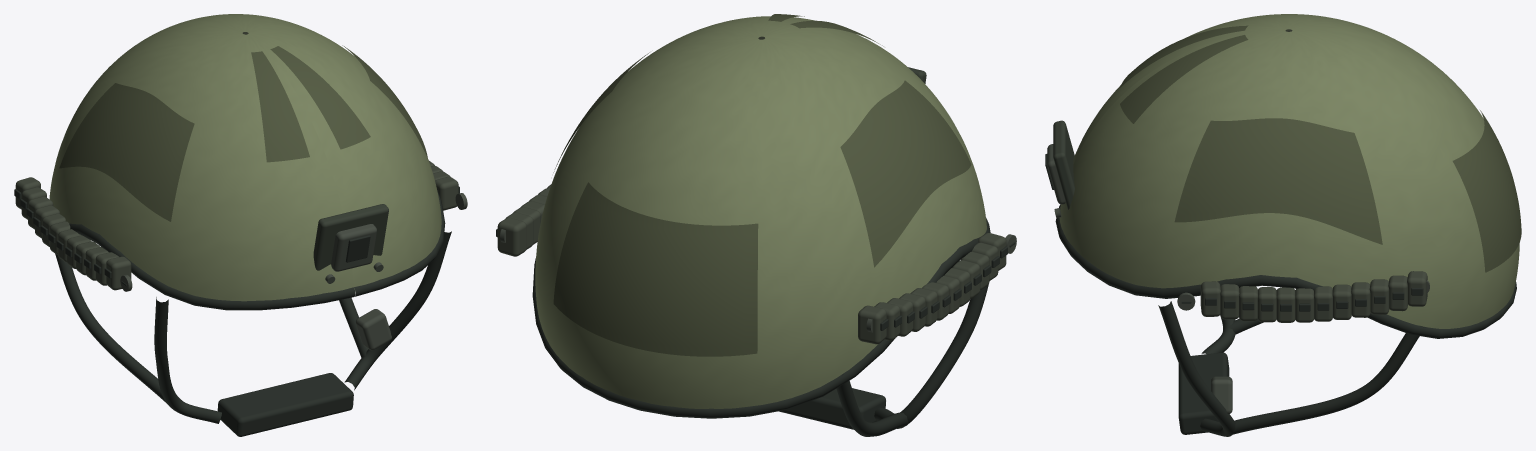
Rendered from atlas-olive.glb.
3 renders of one model, left to right at view 1: azimuth 30°, elevation 25°; view 2: azimuth 150°, elevation 25°; view 3: azimuth 270°, elevation 25°, orthographic. The views are drawn at different scales.
Visible parts, largest first — view 1: Exterior shell, Loop panel (×4), Chin cup, Chin strap (×2), Continuous rim, Rear retention strap (×2), ATLAS original demonstrator, Front mount, Accessory rail (×2), Strap buckle; view 2: Exterior shell, Loop panel (×2), Continuous rim, Accessory rail (×3), Chin strap, Chin cup, Rear retention strap, ATLAS original demonstrator; view 3: Exterior shell, Loop panel (×4), Accessory rail (×12), Continuous rim, Rear retention strap, Chin strap (×2), Chin cup, ATLAS original demonstrator, Front mount, Strap buckle.
Part boxes in pixels (<box>): Exterior shell: <box>49,14,441,301</box>; Loop panel (×4): <box>59,45,427,221</box>; Chin cup: <box>217,373,353,436</box>; Chin strap (×2): <box>154,231,451,423</box>; Continuous rim: <box>69,191,445,310</box>; Rear retention strap (×2): <box>55,253,368,403</box>; ATLAS original demonstrator: <box>14,186,459,286</box>; Front mount: <box>313,204,388,270</box>; Accessory rail (×2): <box>106,176,458,290</box>; Strap buckle: <box>356,309,391,350</box>; Exterior shell: <box>535,16,986,408</box>; Loop panel (×2): <box>553,80,971,356</box>; Continuous rim: <box>532,218,990,418</box>; Accessory rail (×3): <box>497,217,900,344</box>; Chin strap: <box>874,284,988,428</box>; Chin cup: <box>779,388,885,429</box>; Rear retention strap: <box>836,374,908,436</box>; ATLAS original demonstrator: <box>496,229,1015,330</box>; Exterior shell: <box>1059,14,1519,328</box>; Loop panel (×4): <box>1120,25,1521,272</box>; Accessory rail (×12): <box>1200,271,1427,322</box>; Continuous rim: <box>1055,204,1516,338</box>; Rear retention strap: <box>1231,326,1423,434</box>; Chin strap (×2): <box>1158,301,1235,436</box>; Chin cup: <box>1178,352,1229,434</box>; ATLAS original demonstrator: <box>1045,144,1423,311</box>; Front mount: <box>1053,120,1074,209</box>; Strap buckle: <box>1211,376,1232,413</box>.
Bounding box in the file's own units: 2.22 × 2.1 × 2.41.
